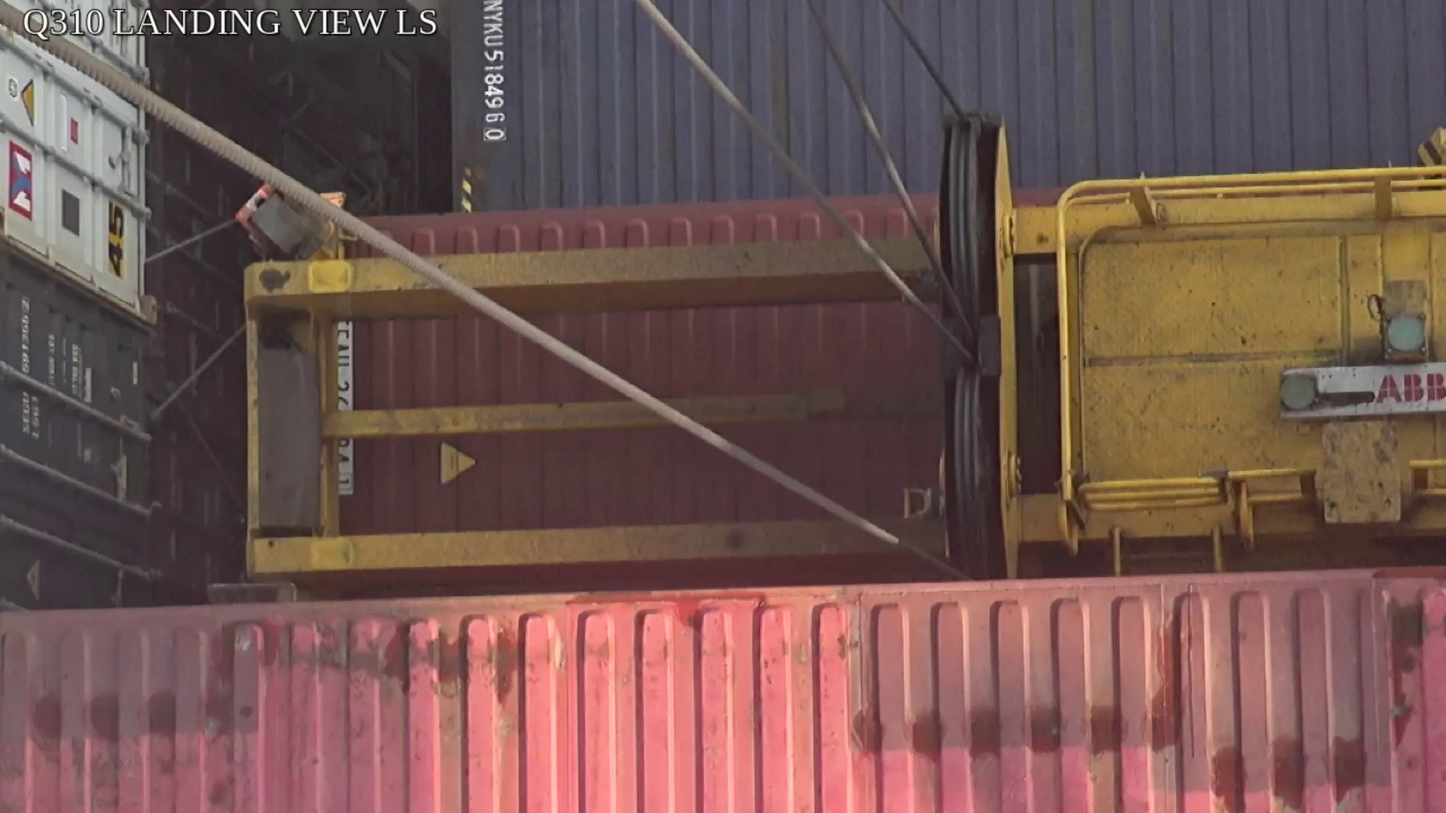aa: (938, 115, 1029, 579)
